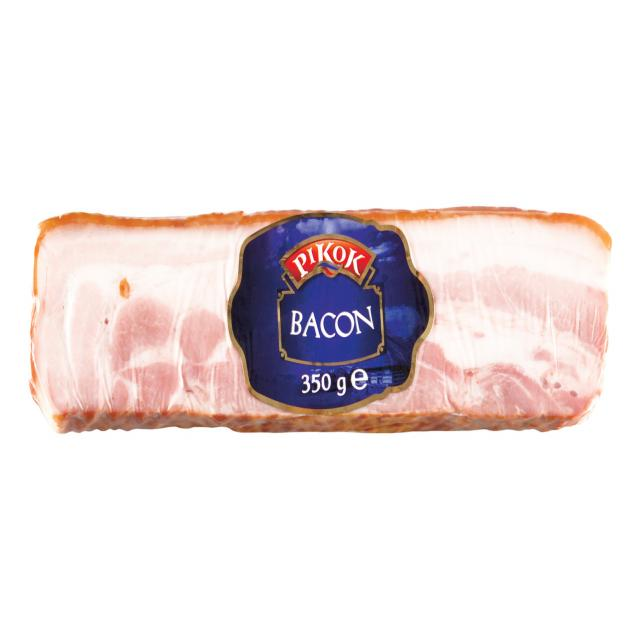bacon: (31, 212, 614, 430)
